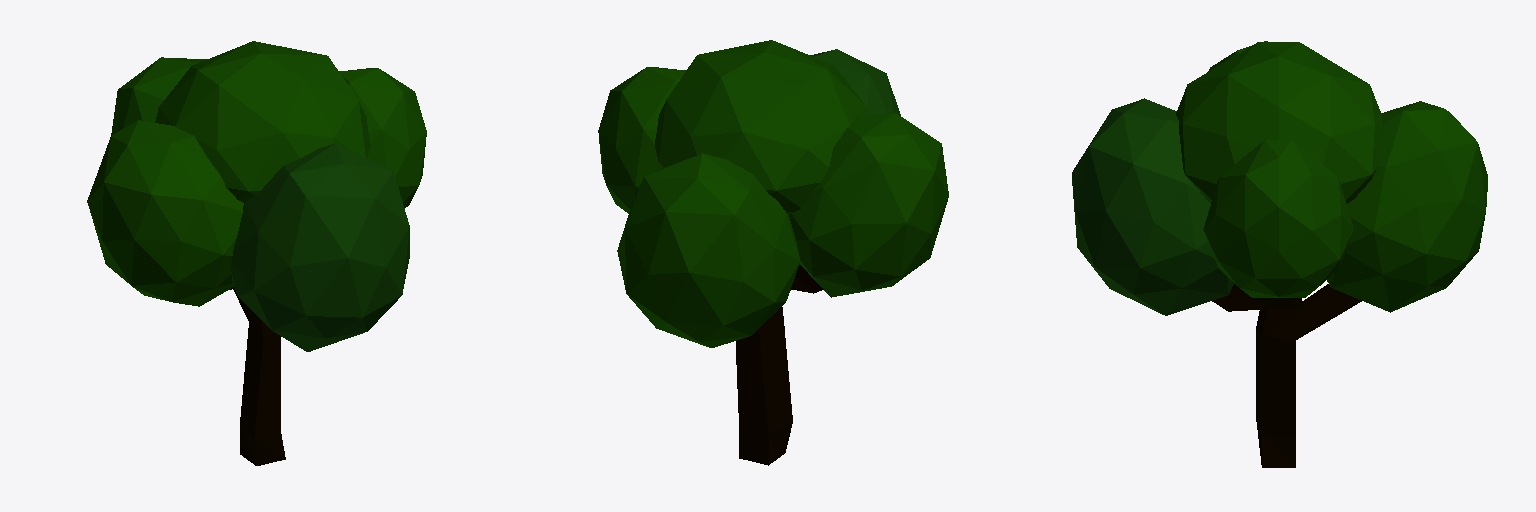
Rendered from tree.obj.
3 renders of one model, left to right at view 1: azimuth 30°, elevation 25°; view 2: azimuth 150°, elevation 25°; view 3: azimuth 270°, elevation 25°, orthographic.
Parts seen in each view (by area): view 1: Icosphere.004, Icosphere.002, Icosphere, Icosphere.001, Cube, Icosphere.003; view 2: Icosphere.003, Icosphere, Icosphere.002, Cube, Icosphere.001, Icosphere.004; view 3: Icosphere.004, Icosphere.003, Icosphere, Icosphere.001, Cube.
Part boxes in pixels (left/top/right/bottom): Icosphere.004: left=230, top=144, right=409, bottom=351; Icosphere.002: left=87, top=120, right=243, bottom=306; Icosphere: left=155, top=41, right=370, bottom=202; Icosphere.001: left=339, top=68, right=426, bottom=207; Cube: left=230, top=287, right=285, bottom=465; Icosphere.003: left=111, top=57, right=206, bottom=135; Icosphere.003: left=617, top=153, right=800, bottom=347; Icosphere: left=655, top=40, right=867, bottom=214; Icosphere.002: left=789, top=113, right=948, bottom=297; Cube: left=736, top=265, right=823, bottom=465; Icosphere.001: left=598, top=67, right=685, bottom=213; Icosphere.004: left=810, top=49, right=900, bottom=115; Icosphere.004: left=1072, top=98, right=1233, bottom=315; Icosphere.003: left=1327, top=101, right=1487, bottom=312; Icosphere: left=1176, top=42, right=1383, bottom=203; Icosphere.001: left=1203, top=140, right=1353, bottom=297; Cube: left=1212, top=283, right=1361, bottom=467.
Size of the model in its own units: 7.61 by 9.2 by 8.61.